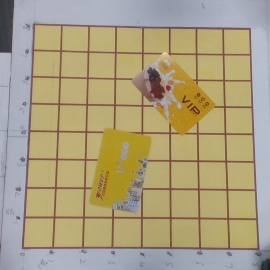card: (131, 52, 216, 136), (90, 127, 153, 215)
